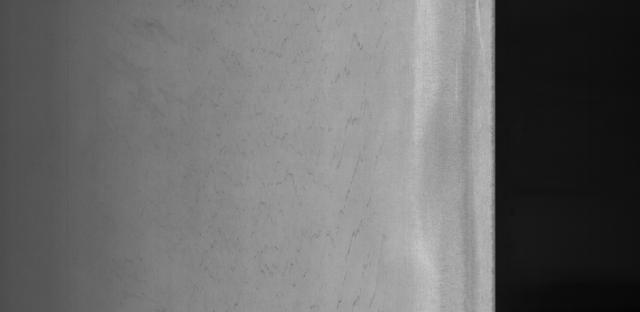silk_spot: (267, 56, 397, 312)
